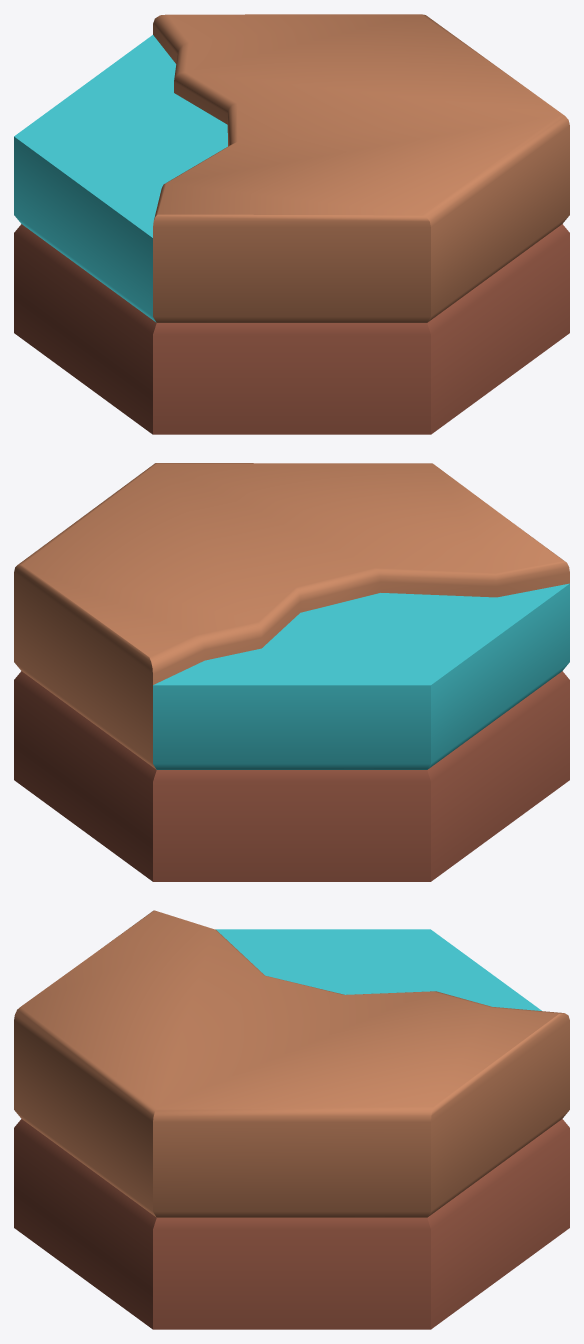
The model's file is kaykit-hex-rock-waterd-detail.glb.
3 views of the same model, one above another, from view 1: azimuth 30°, elevation 25°; view 2: azimuth 150°, elevation 25°; view 3: azimuth 270°, elevation 25° (orthographic).
Visible parts, largest first — view 1: hex_rock_waterD_detail; view 2: hex_rock_waterD_detail; view 3: hex_rock_waterD_detail.
Part boxes in pixels (left/top/right/bottom): hex_rock_waterD_detail: left=14, top=14, right=569, bottom=434; hex_rock_waterD_detail: left=14, top=463, right=569, bottom=881; hex_rock_waterD_detail: left=14, top=910, right=569, bottom=1329.
Size of the model in its own units: 2 by 1 by 2.31.
